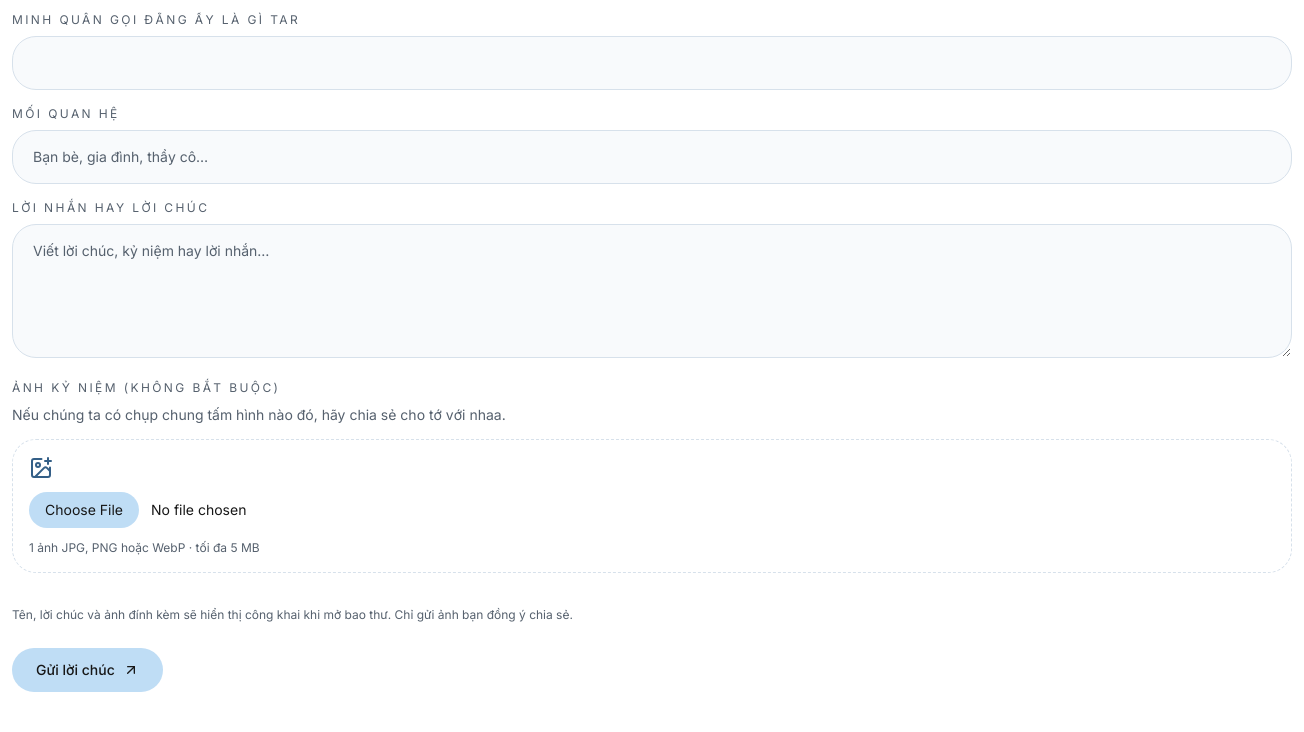
Test: RSVP flow › keeps the written message when database saving fails with P0001
Type "Khách kiểm thử" into the field labelled "Minh Quân gọi đằng ấy là gì tar" at (652, 63), box [12,36,1292,90]
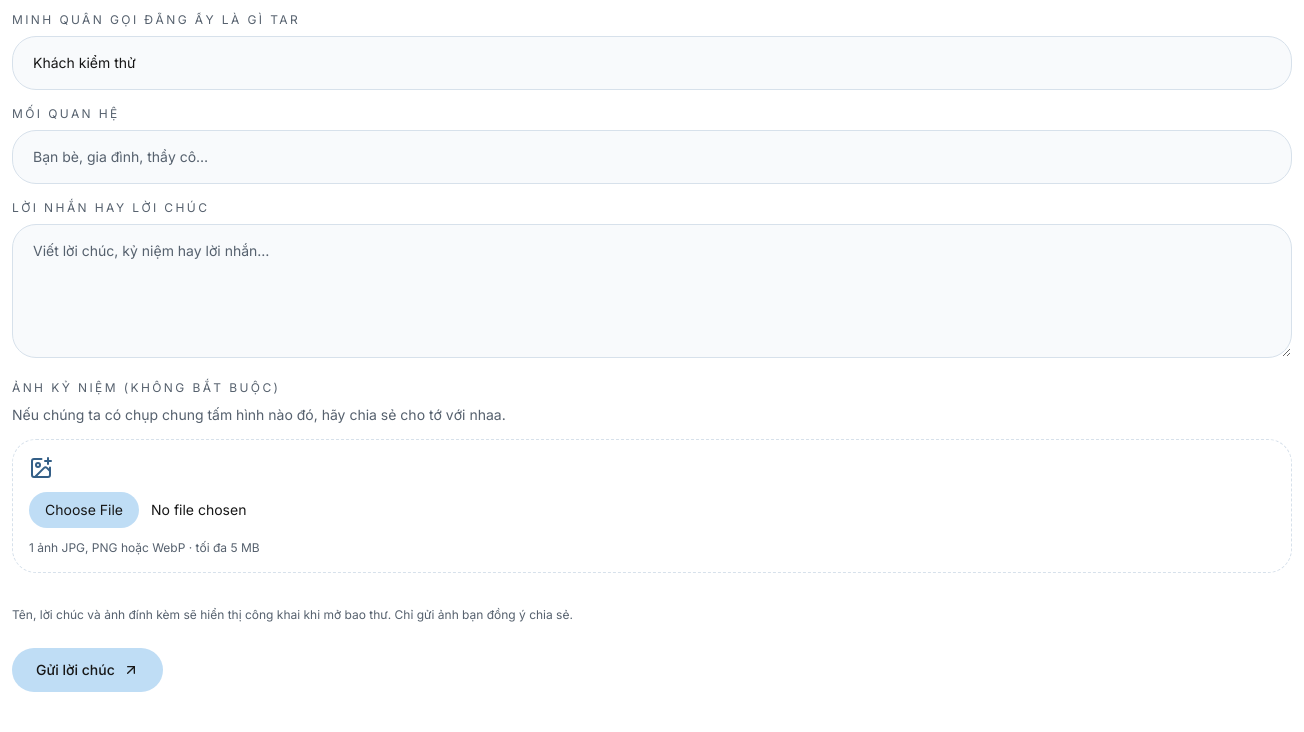
Type "Bạn bè" into the field labelled "Mối quan hệ" at (652, 157), box [12,130,1292,184]
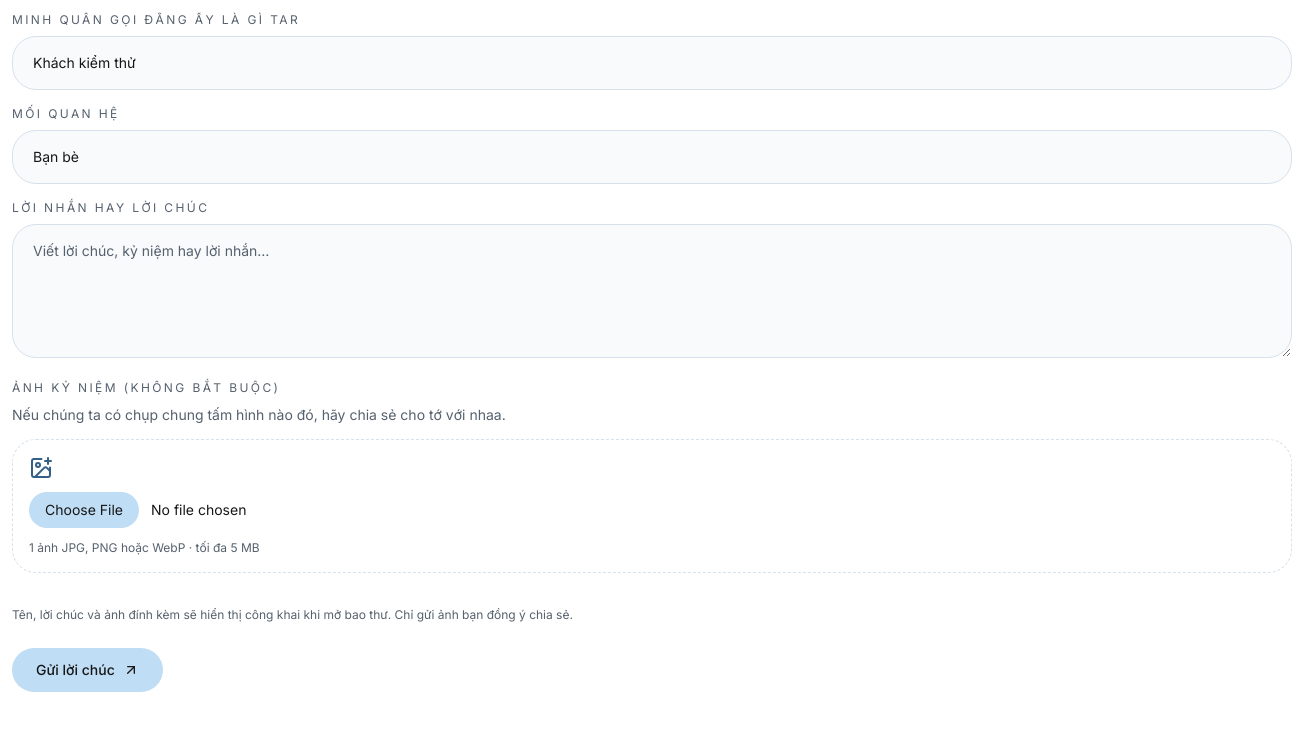
Type "Chúc mừng tốt nghiệp!" into the text box labelled "Lời nhắn hay lời chúc" at (652, 291), box [12,224,1292,358]
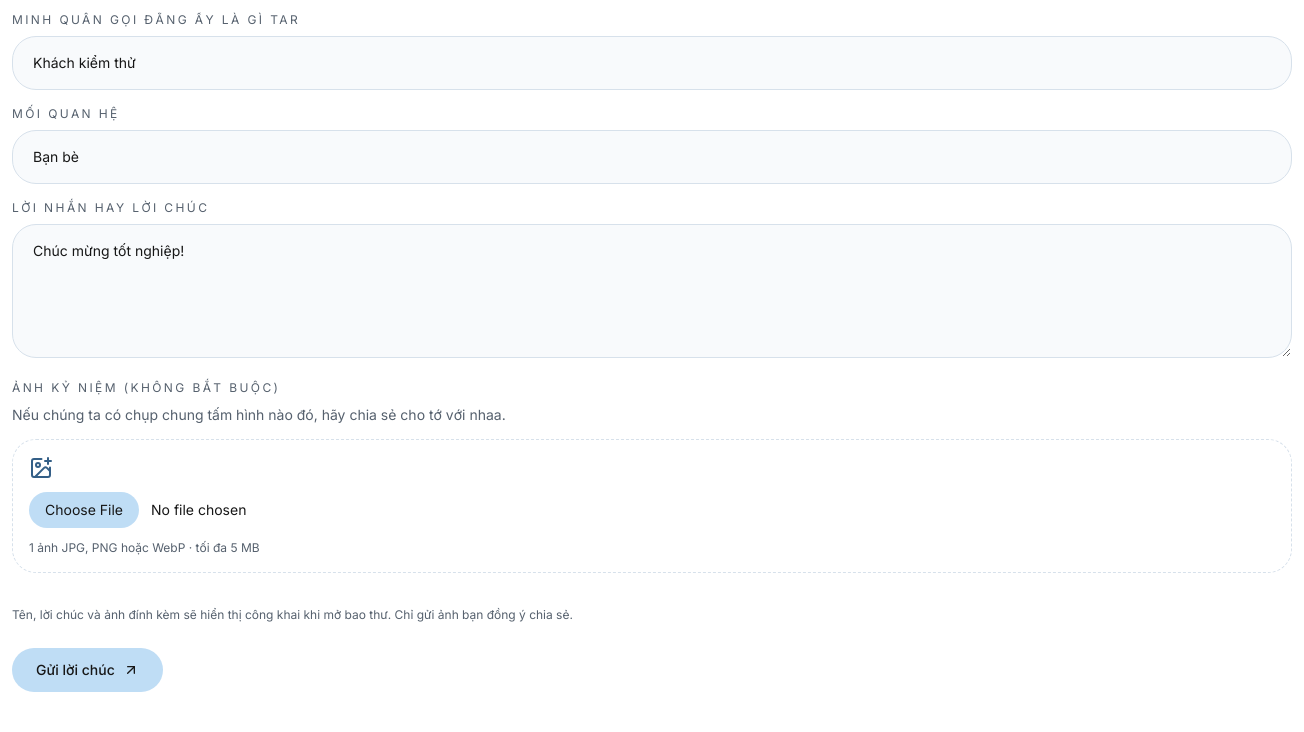
Submit the form named "Gửi lời chúc"
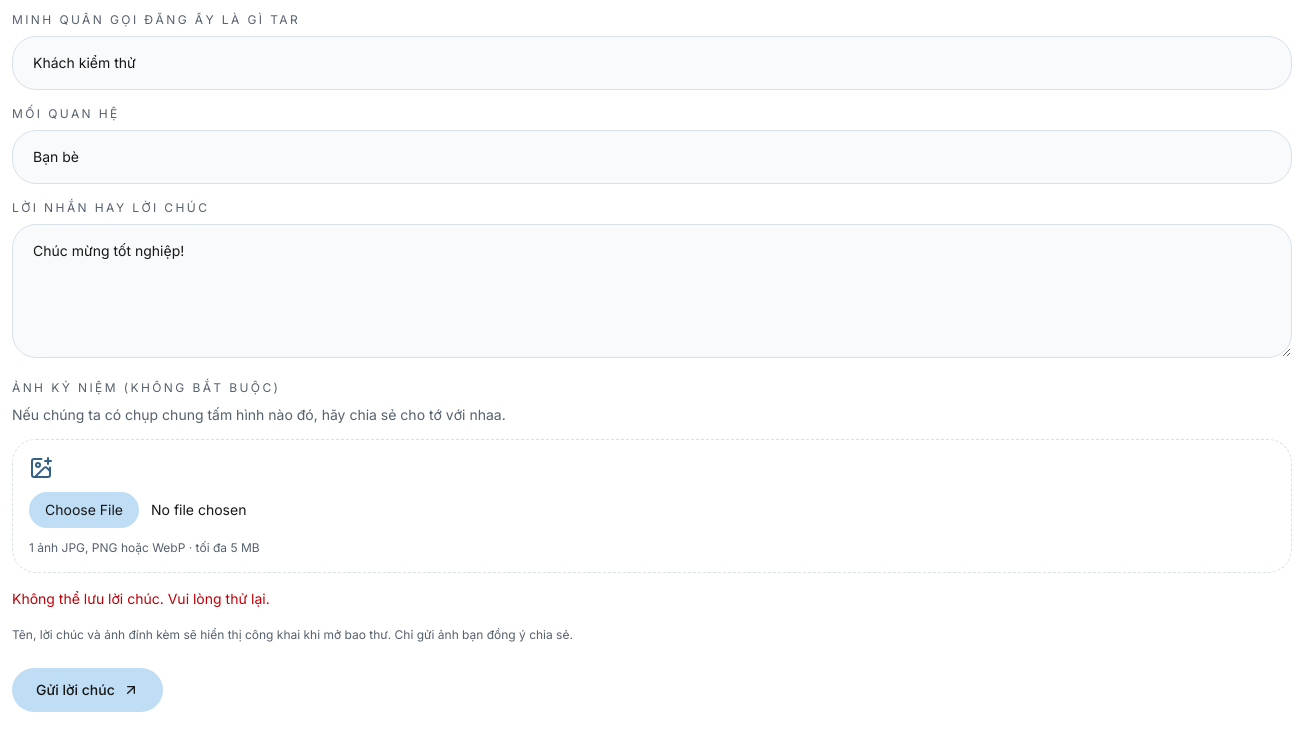
expect the button "Gửi lời chúc" is enabled: met, box [12,668,163,712]
expect the message reads "Không thể lưu lời chúc. Vui lòng thử lại.": met, box [12,590,270,607]
